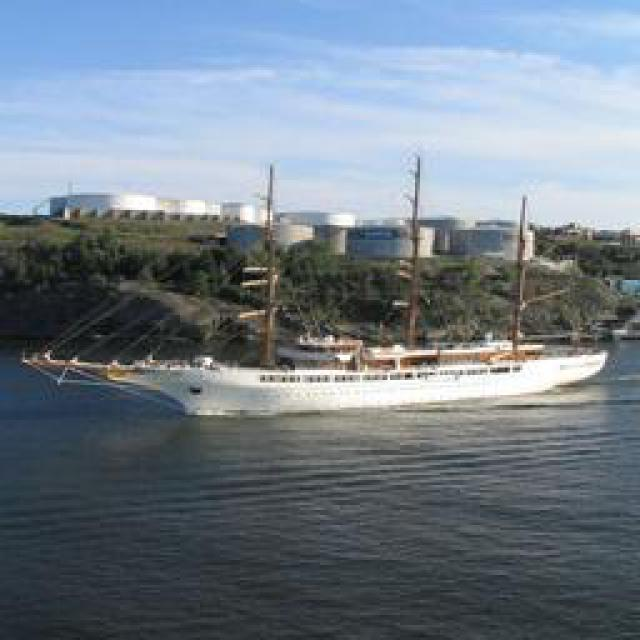Ship: (55, 337, 600, 420)
